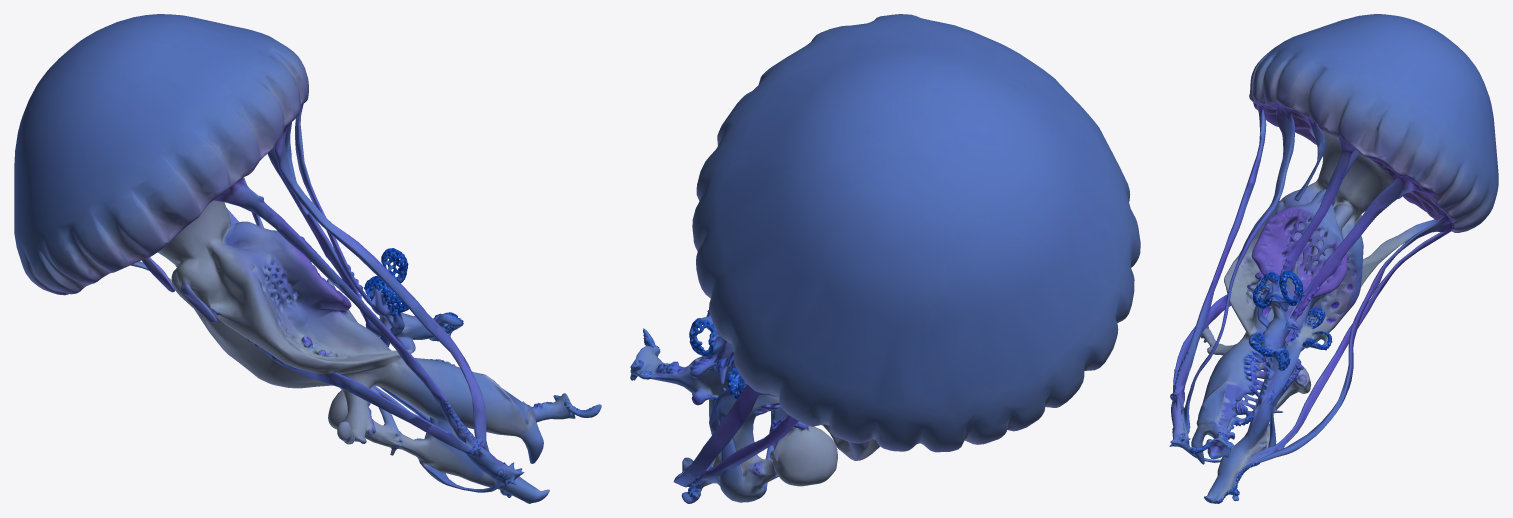
File: physalia.glb
The picture shows the model from 3 angles, left to right: view 1: azimuth 30°, elevation 25°; view 2: azimuth 150°, elevation 25°; view 3: azimuth 270°, elevation 25°; orthographic projection. The views are drawn at different scales.
Visible parts, largest first — view 1: tripo_node_7308184f-402e-4c55-b557-3d4876a47258; view 2: tripo_node_7308184f-402e-4c55-b557-3d4876a47258; view 3: tripo_node_7308184f-402e-4c55-b557-3d4876a47258.
Boxes of the visible parts, x1,y1,x2,y2 form: tripo_node_7308184f-402e-4c55-b557-3d4876a47258: (14, 14, 601, 503); tripo_node_7308184f-402e-4c55-b557-3d4876a47258: (630, 14, 1140, 503); tripo_node_7308184f-402e-4c55-b557-3d4876a47258: (1169, 14, 1498, 503).
Bounding box in the file's own units: 0.9797 × 0.9461 × 0.7527.
1 material, 1 textured.
